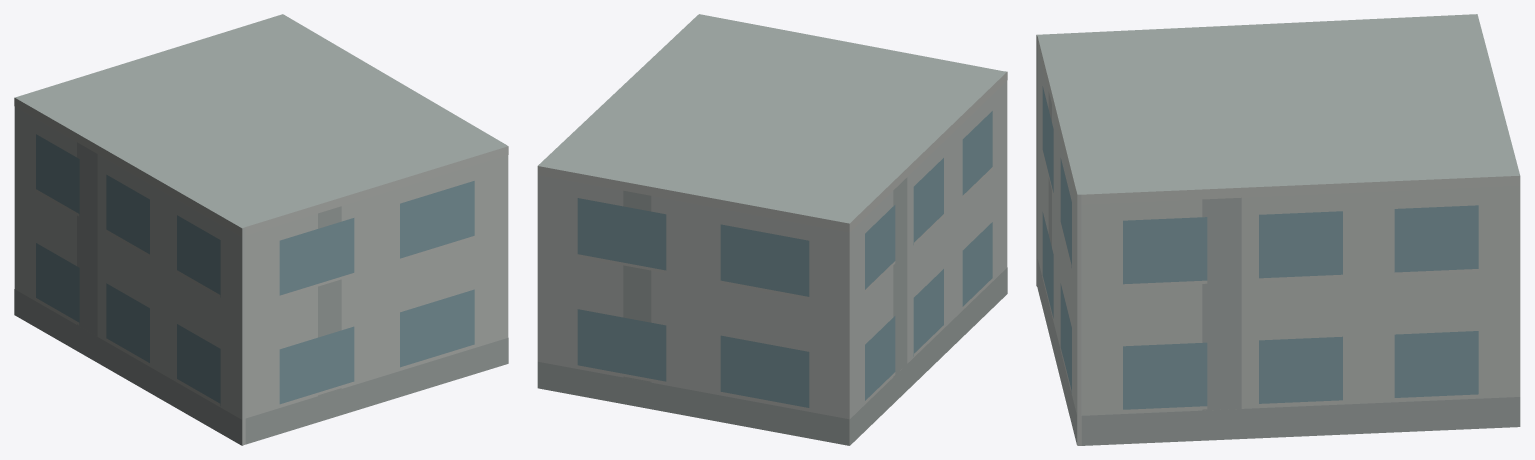
Rendered from survey-upis-32607877.glb.
3 renders of one model, left to right at view 1: azimuth 30°, elevation 25°; view 2: azimuth 150°, elevation 25°; view 3: azimuth 270°, elevation 25°, orthographic. The views are drawn at different scales.
Parts seen in each view (by area): view 1: survey-upis-32607877.tmp; view 2: survey-upis-32607877.tmp; view 3: survey-upis-32607877.tmp.
Boxes of the visible parts, bbox=[...] form: survey-upis-32607877.tmp: bbox=[14, 14, 508, 445]; survey-upis-32607877.tmp: bbox=[537, 14, 1007, 445]; survey-upis-32607877.tmp: bbox=[1036, 14, 1520, 445].
Bounding box in the file's own units: 9.42 × 6.1 × 10.66.
